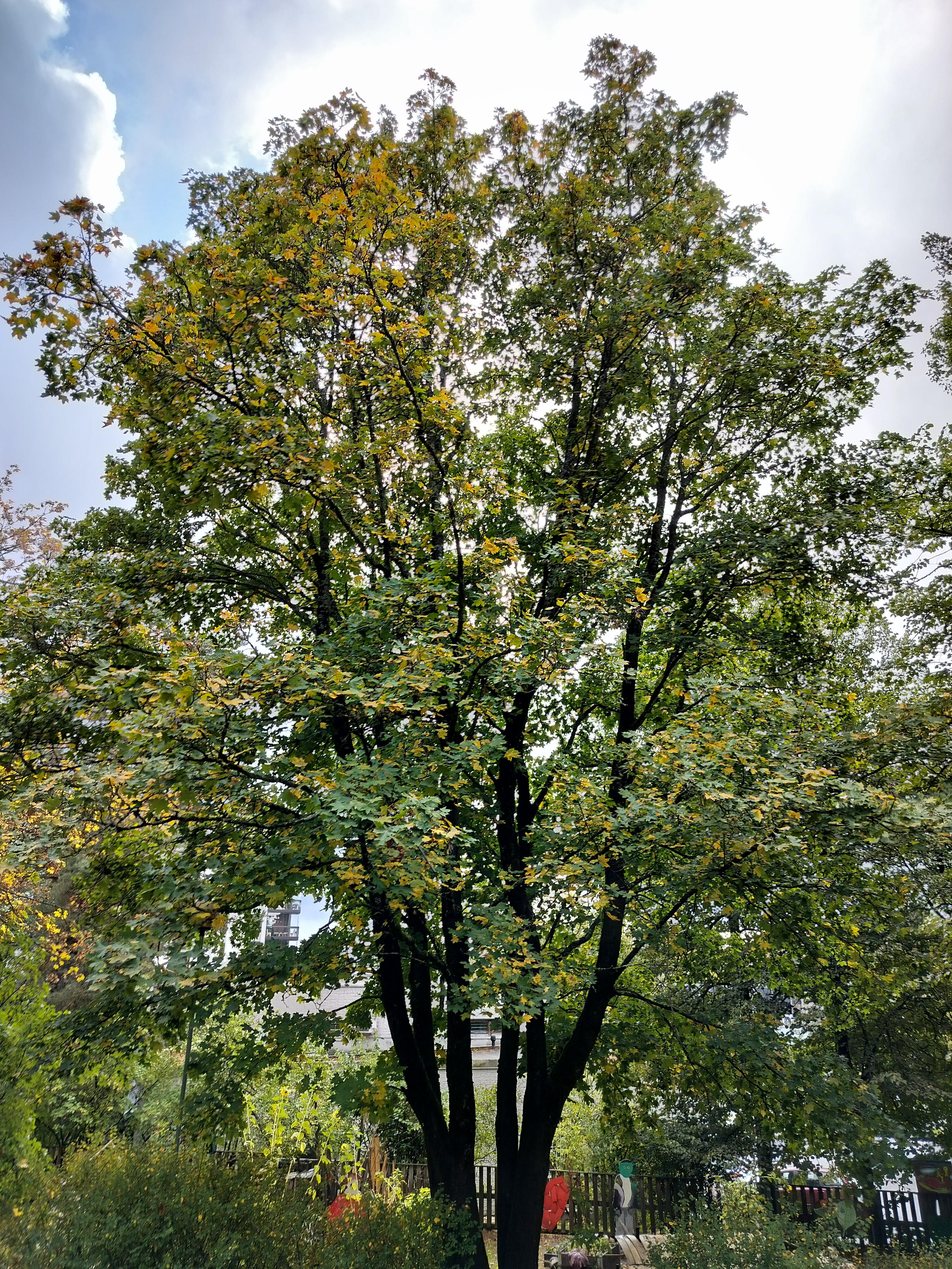Maple: (1, 99, 952, 1035), (219, 97, 777, 1257)
